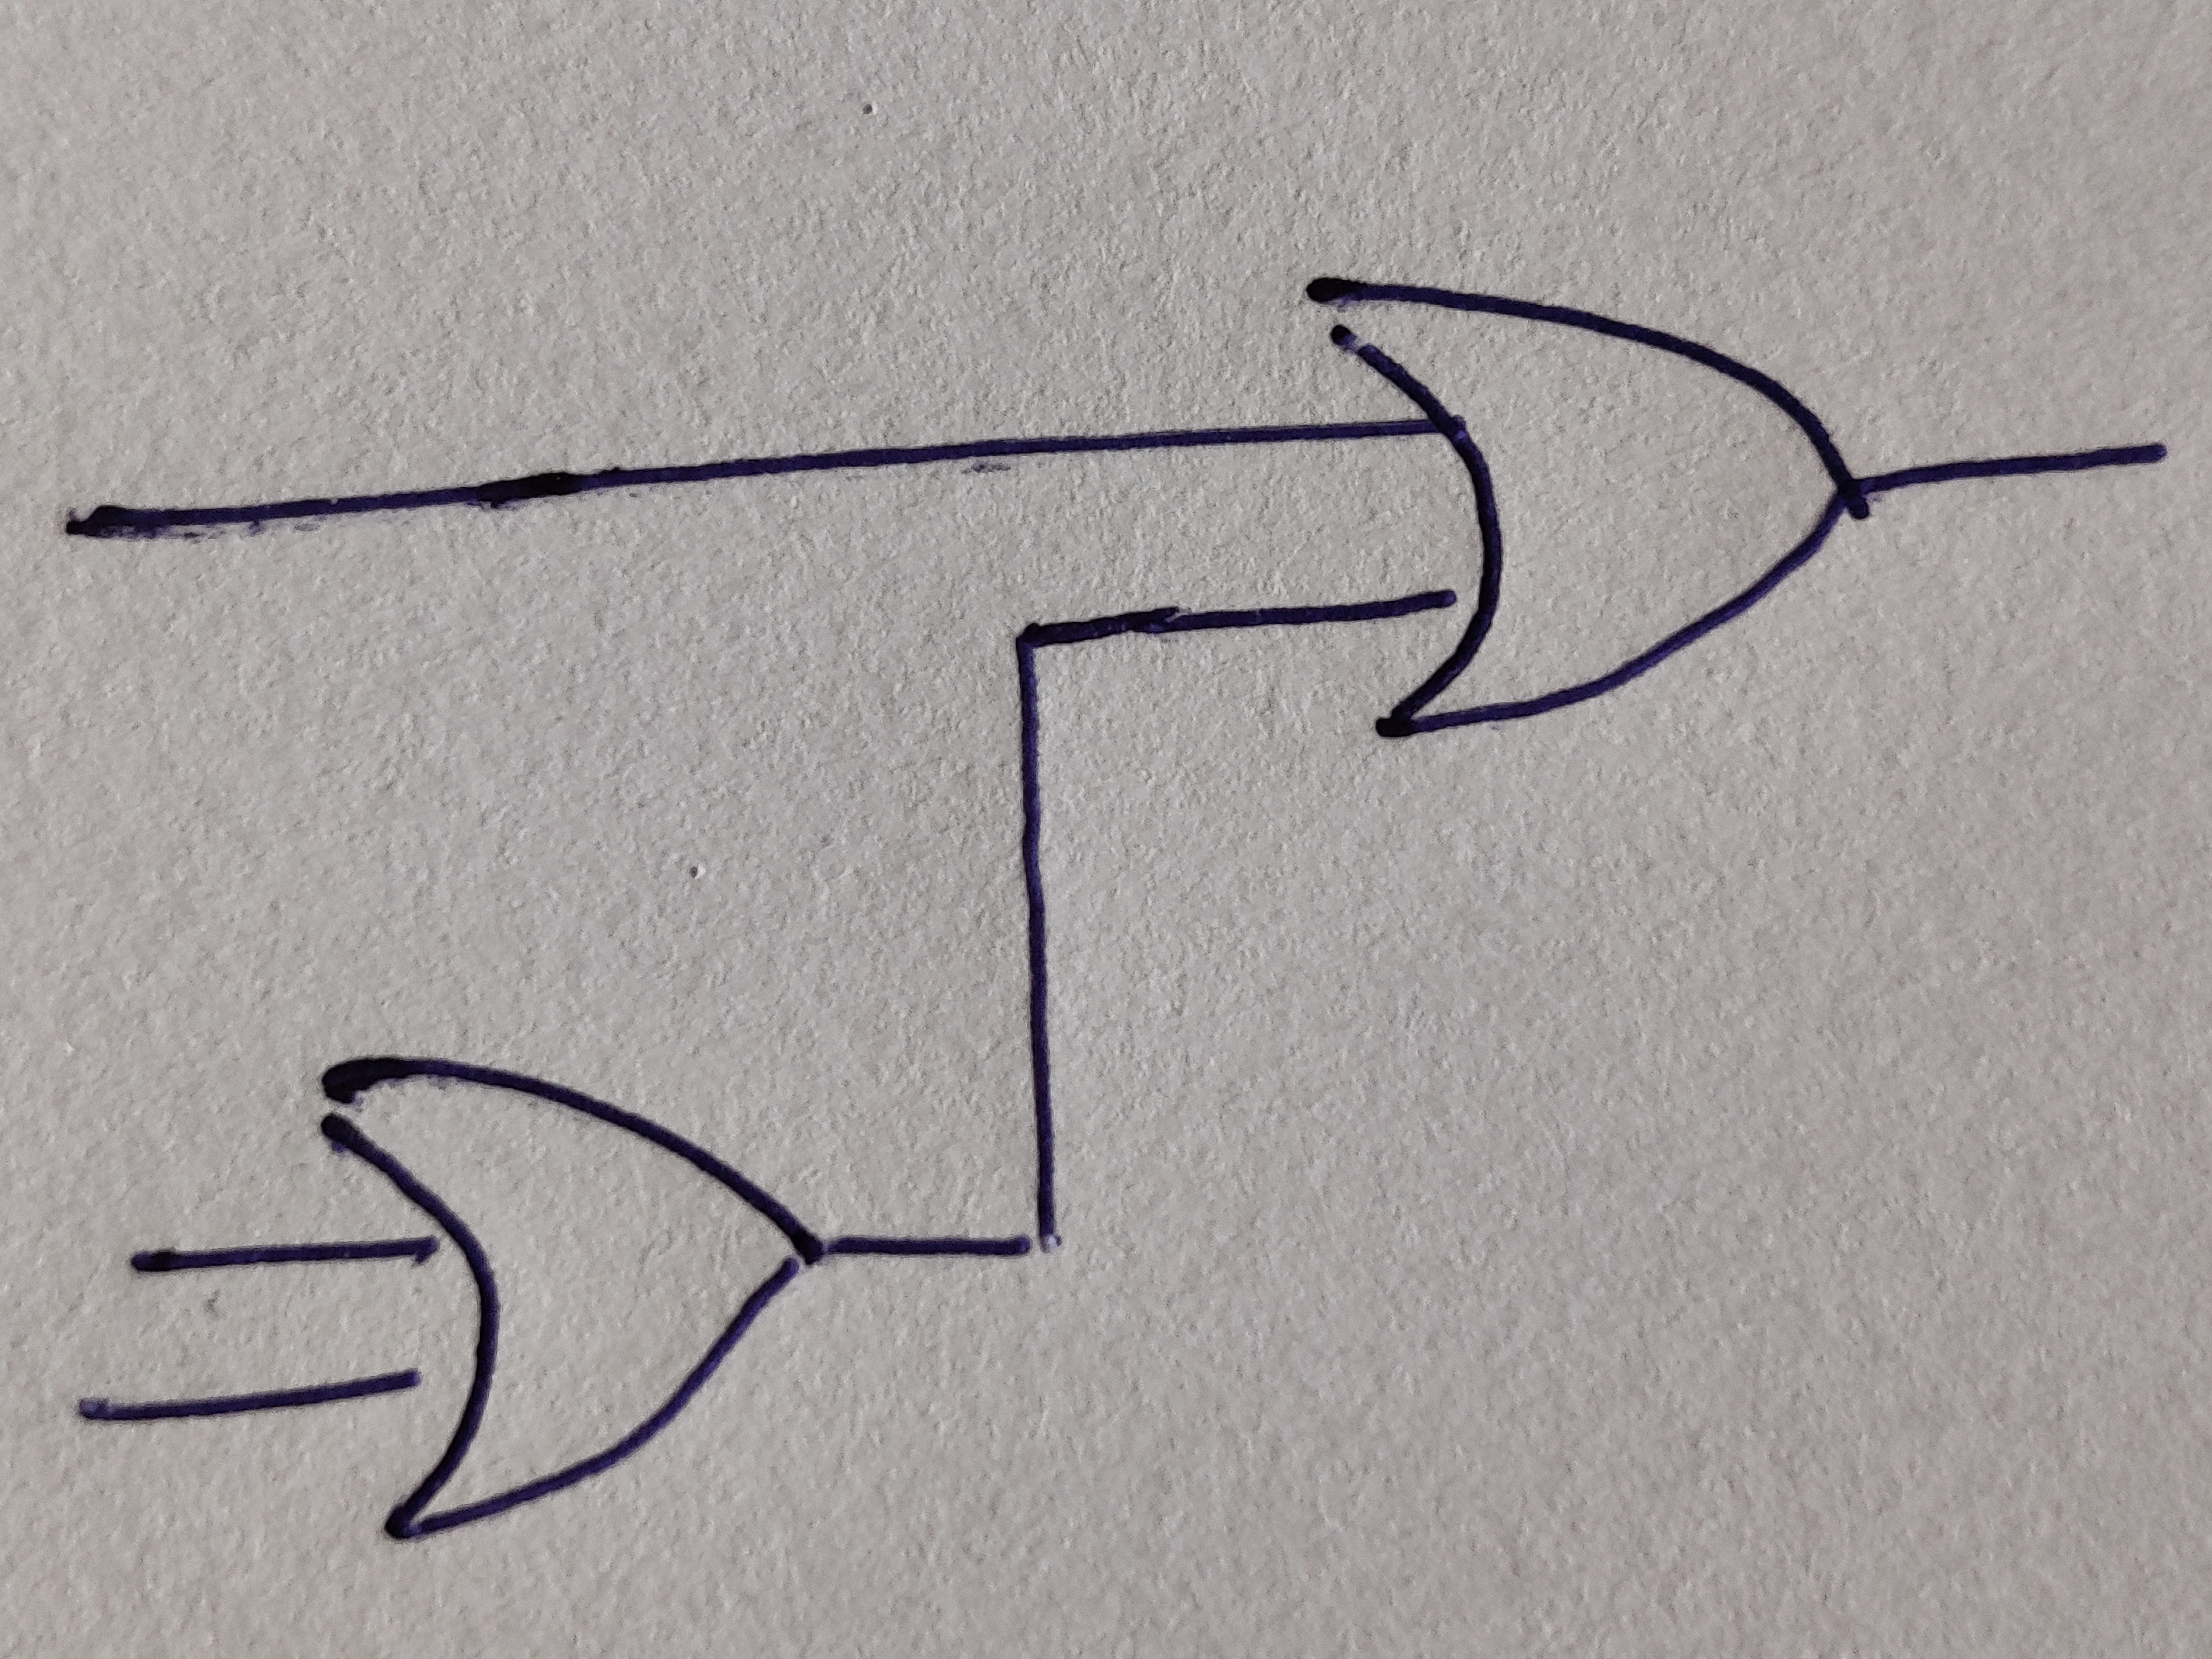or: (1305, 277, 1871, 737), (320, 1058, 827, 1542)
